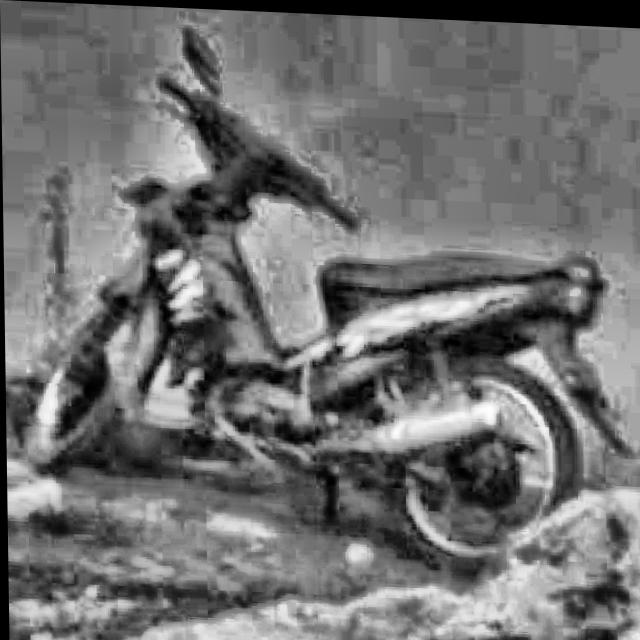motorcycle: (19, 22, 629, 567)
